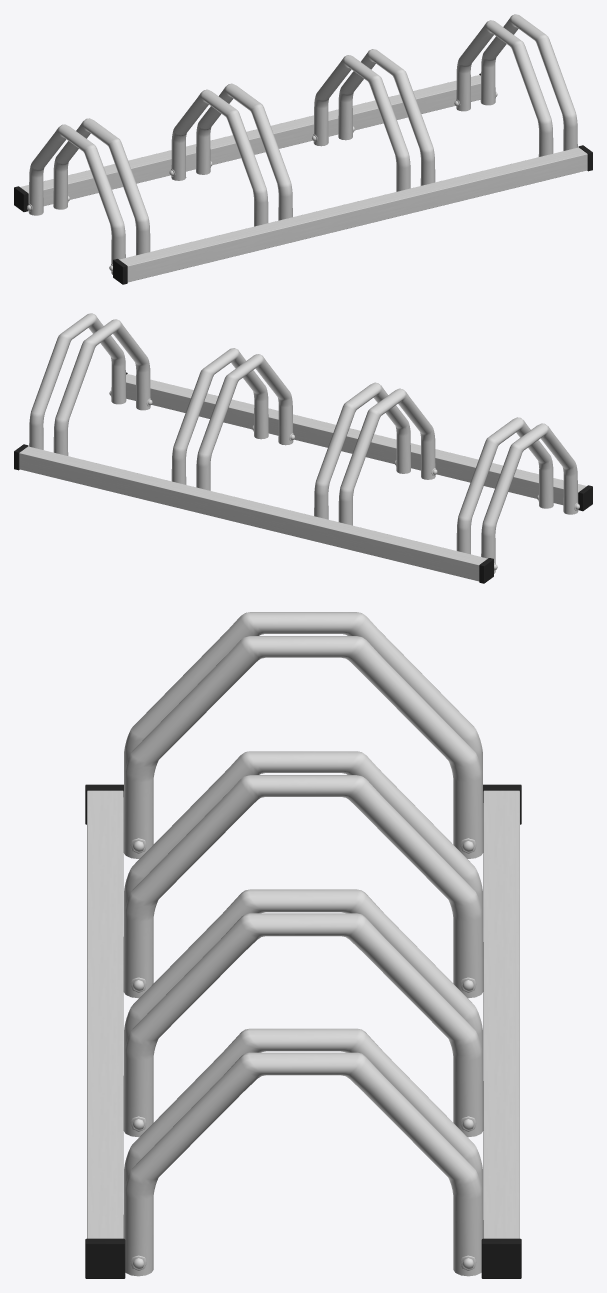
Rendered from bikeRack.fbx.
3 views of the same model, one above another, from view 1: azimuth 30°, elevation 25°; view 2: azimuth 150°, elevation 25°; view 3: azimuth 270°, elevation 25° (orthographic). The views are drawn at different scales.
Visible parts, largest first — view 1: bikeRack_lo; view 2: bikeRack_lo; view 3: bikeRack_lo.
Part boxes in pixels (<box>): bikeRack_lo: <box>14,14,592,284</box>; bikeRack_lo: <box>14,313,592,583</box>; bikeRack_lo: <box>85,612,521,1278</box>.
Bounding box in the file's own units: 2 × 0.4384 × 0.8029.
